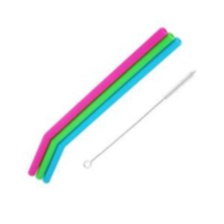drinking_straw: (20, 25, 186, 186)
